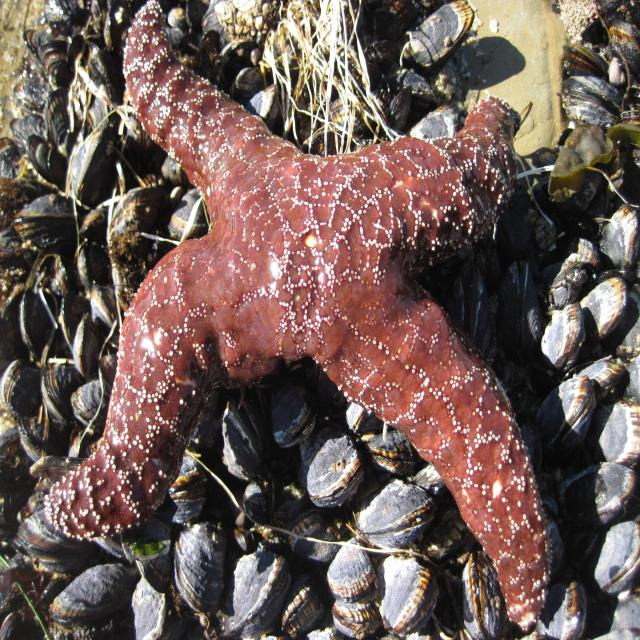starfish: (45, 2, 549, 628)
